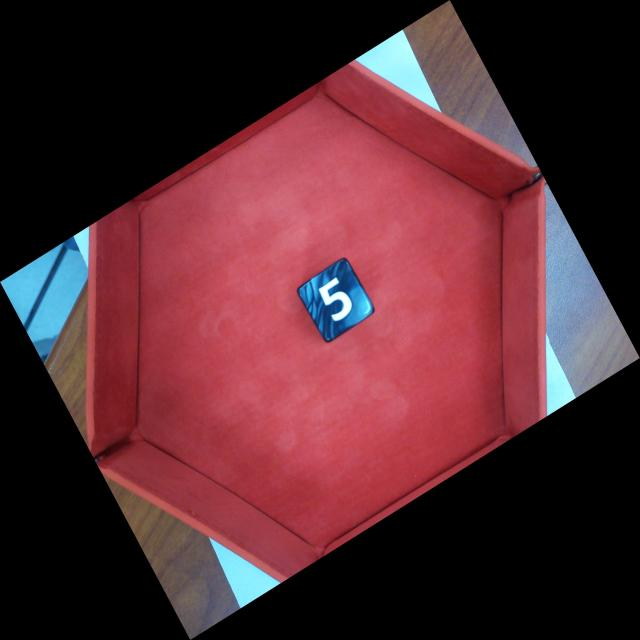dice: (296, 257, 375, 343)
